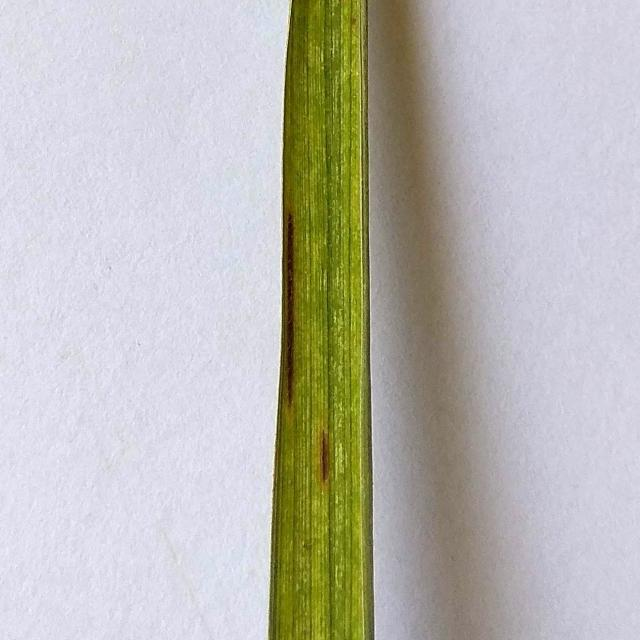brownspots: (279, 194, 303, 425), (320, 422, 335, 488)
